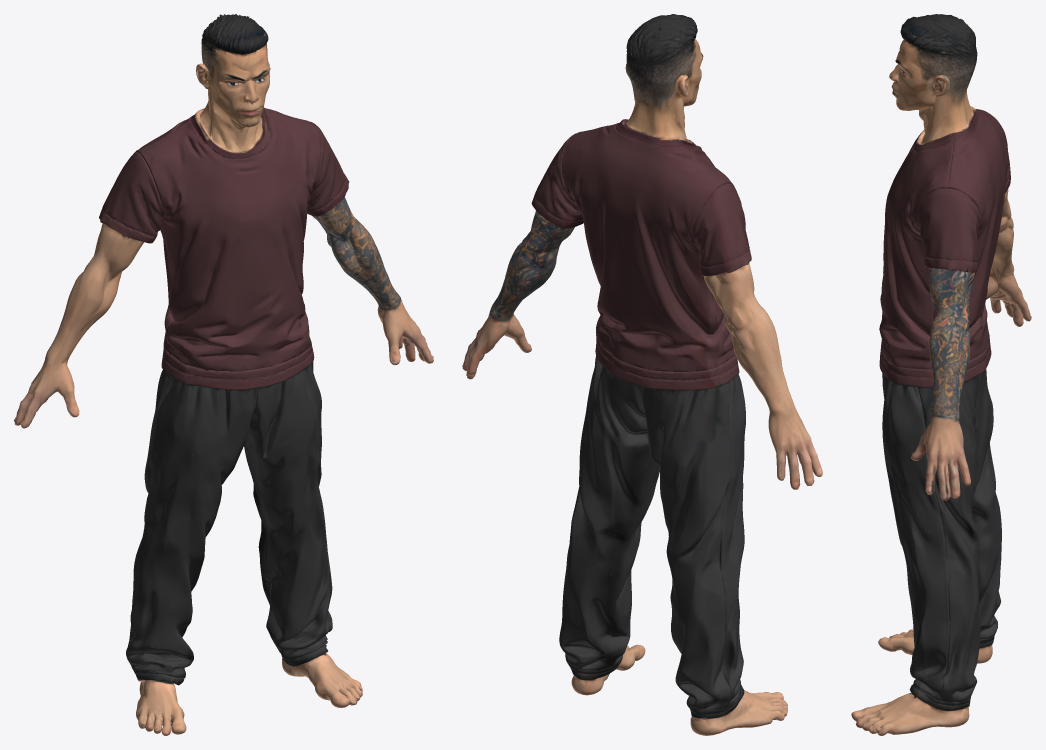
File: seungyeon_front.glb
3 views of the same model, side by side, from view 1: azimuth 30°, elevation 25°; view 2: azimuth 150°, elevation 25°; view 3: azimuth 270°, elevation 25° (orthographic).
Visible parts, largest first — view 1: tripo_node_d13306f6-56f2-4dfd-a7b8-987214ee1347; view 2: tripo_node_d13306f6-56f2-4dfd-a7b8-987214ee1347; view 3: tripo_node_d13306f6-56f2-4dfd-a7b8-987214ee1347.
Part boxes in pixels (<box>): tripo_node_d13306f6-56f2-4dfd-a7b8-987214ee1347: <box>14,14,433,735</box>; tripo_node_d13306f6-56f2-4dfd-a7b8-987214ee1347: <box>462,14,822,735</box>; tripo_node_d13306f6-56f2-4dfd-a7b8-987214ee1347: <box>851,14,1031,735</box>.
Bounding box in the file's own units: 1.06 × 1.8 × 0.4364.
1 material, 1 textured.
